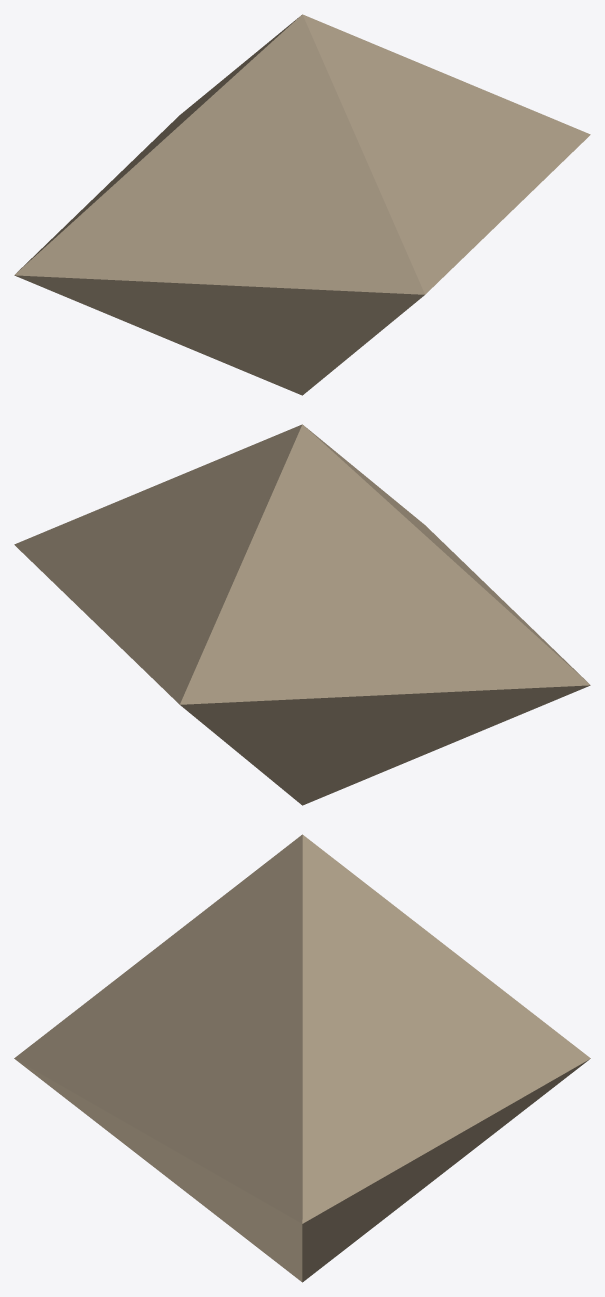
Rendered from Resource.fbx.
3 views of the same model, one above another, from view 1: azimuth 30°, elevation 25°; view 2: azimuth 150°, elevation 25°; view 3: azimuth 270°, elevation 25° (orthographic). The views are drawn at different scales.
Visible parts, largest first — view 1: Resource; view 2: Resource; view 3: Resource.
Boxes of the visible parts, x1,y1,x2,y2 form: Resource: (14,14,590,395); Resource: (14,424,590,805); Resource: (14,834,590,1282).
Size of the model in its own units: 0.38 by 0.24 by 0.28.
